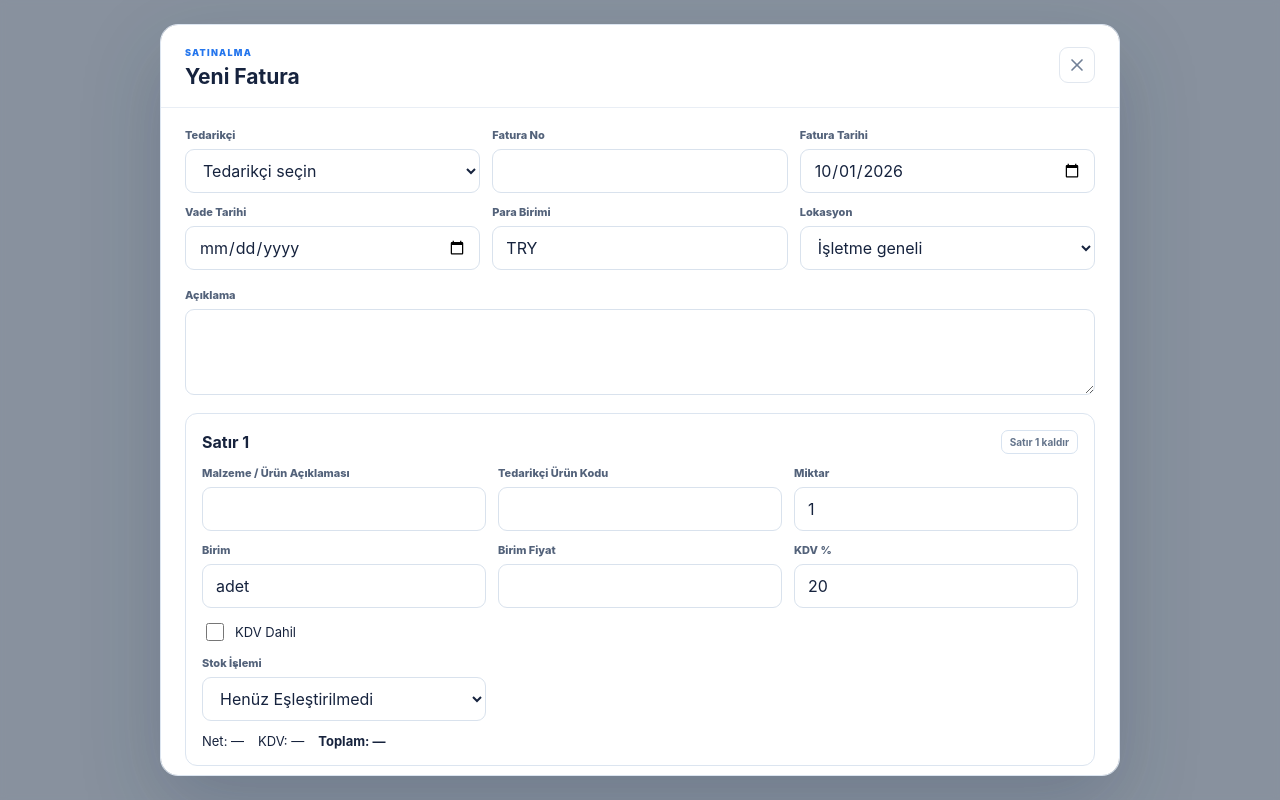
Test case: invoice drafts › rejects due date before invoice date
Step 1. Select "Tedarikçi A" in the dropdown labelled "Tedarikçi" → {"x": 333, "y": 171}, box [185,149,480,193]
Step 2. Type " NEW-1 " into the field labelled "Fatura No" → {"x": 640, "y": 171}, box [492,149,788,193]
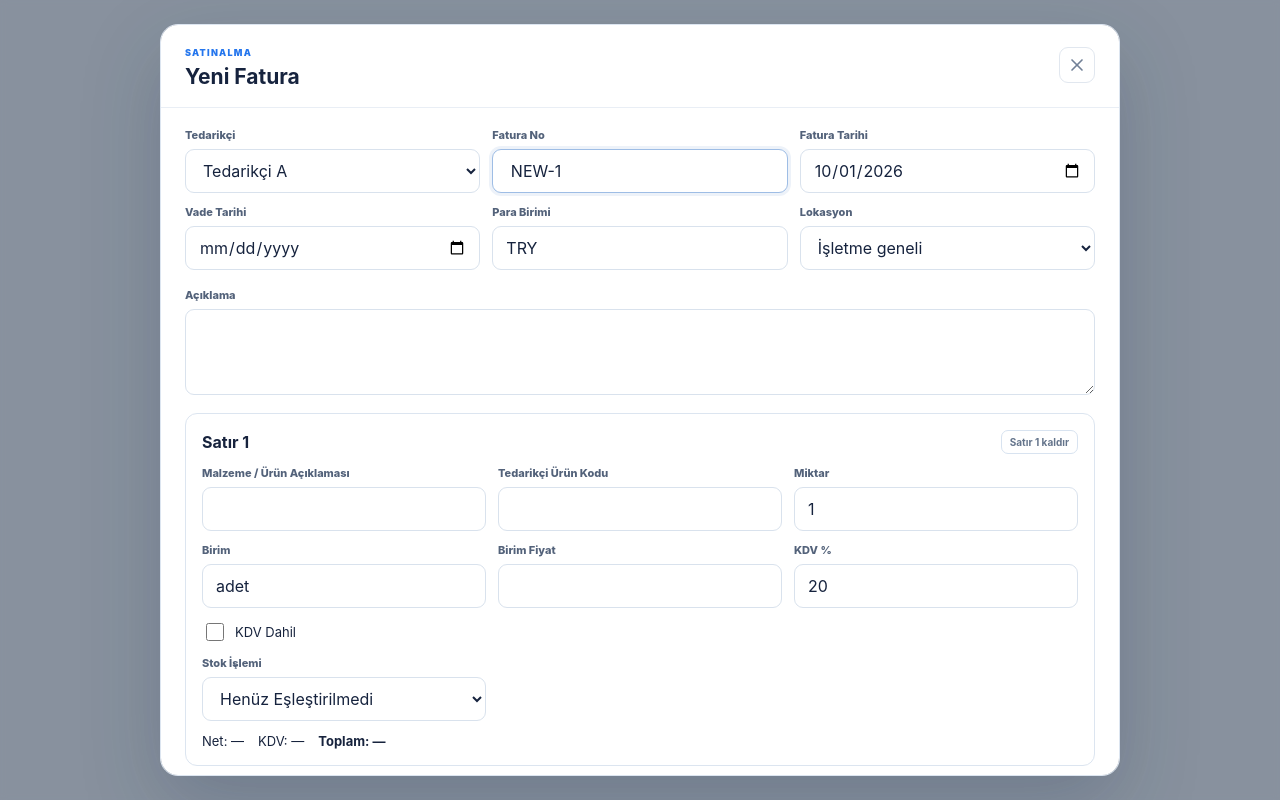
Step 3. Type "2026-09-25" into the date field labelled "Fatura Tarihi" → {"x": 947, "y": 171}, box [800,149,1095,193]
Step 4. Type "Un alımı" into the field named "Malzeme / Ürün Açıklaması 1" → {"x": 344, "y": 509}, box [202,487,486,531]
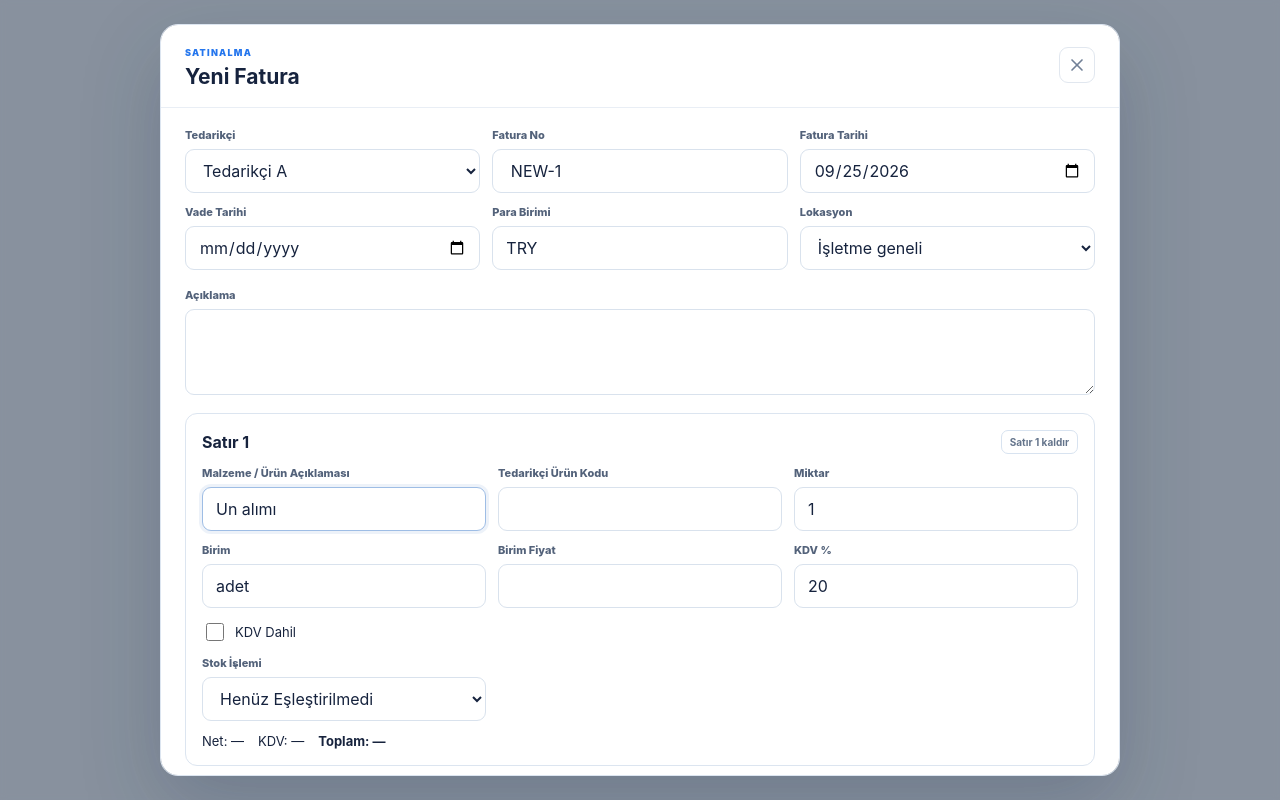
Step 5. Replace the text in the field named "Miktar 1" with "1,2345" → {"x": 936, "y": 509}, box [794,487,1078,531]
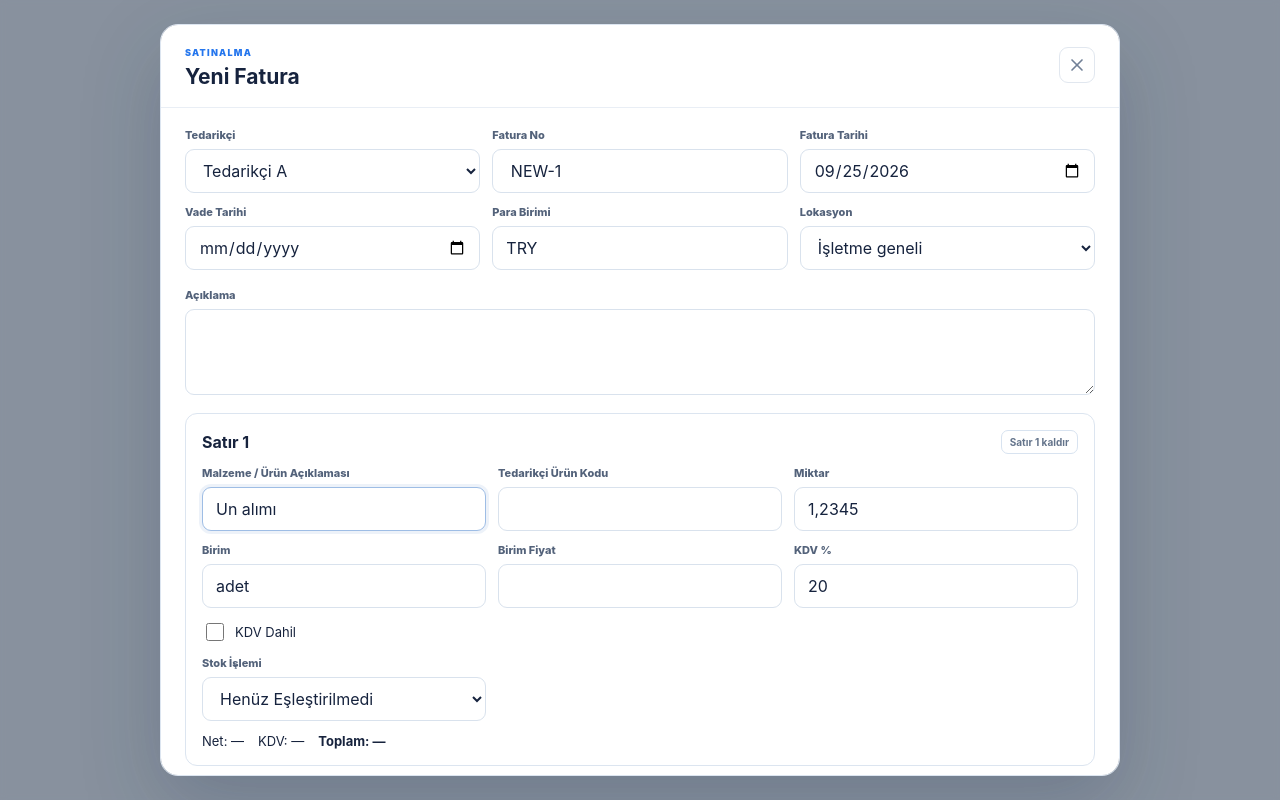
Step 6. Type "10,00" into the field named "Birim Fiyat 1" → {"x": 640, "y": 586}, box [498,564,782,608]
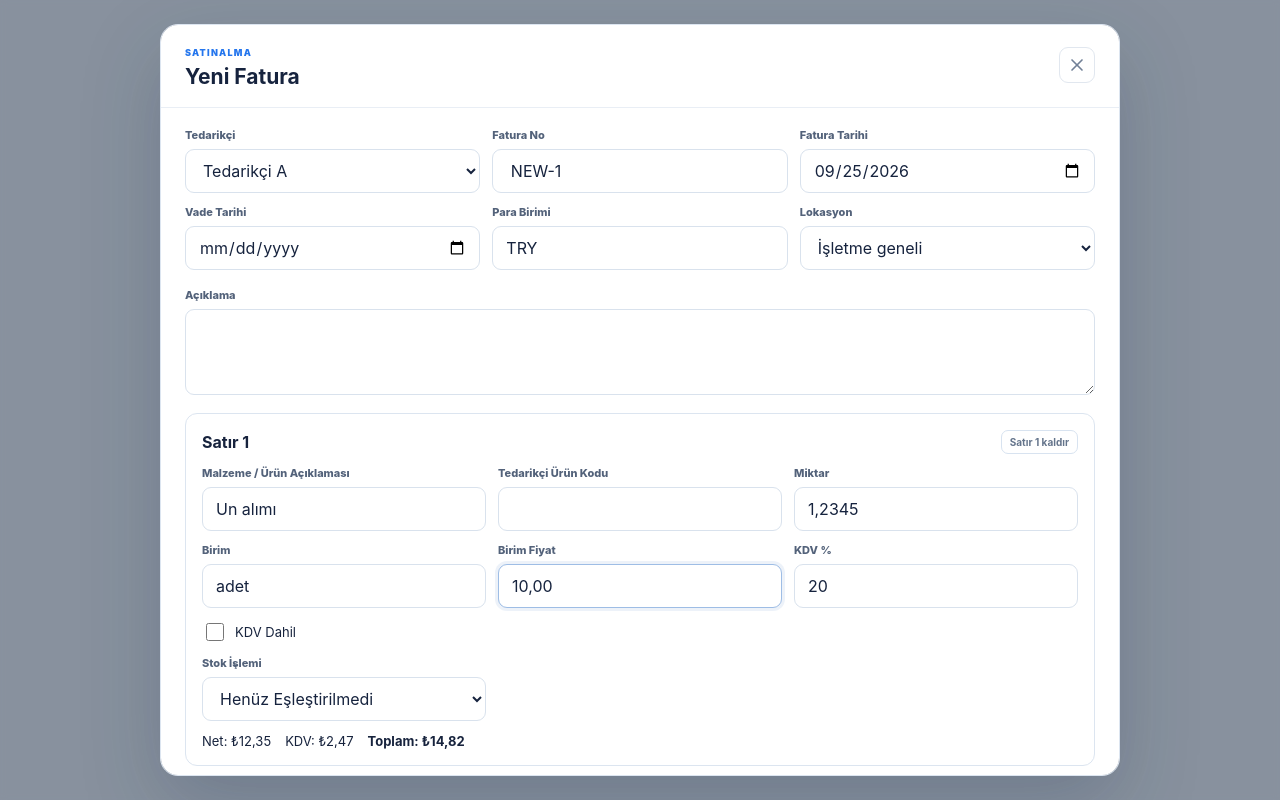
Step 7. Select "Stok Dışı" in the dropdown named "Stok İşlemi 1" → {"x": 344, "y": 699}, box [202,677,486,721]
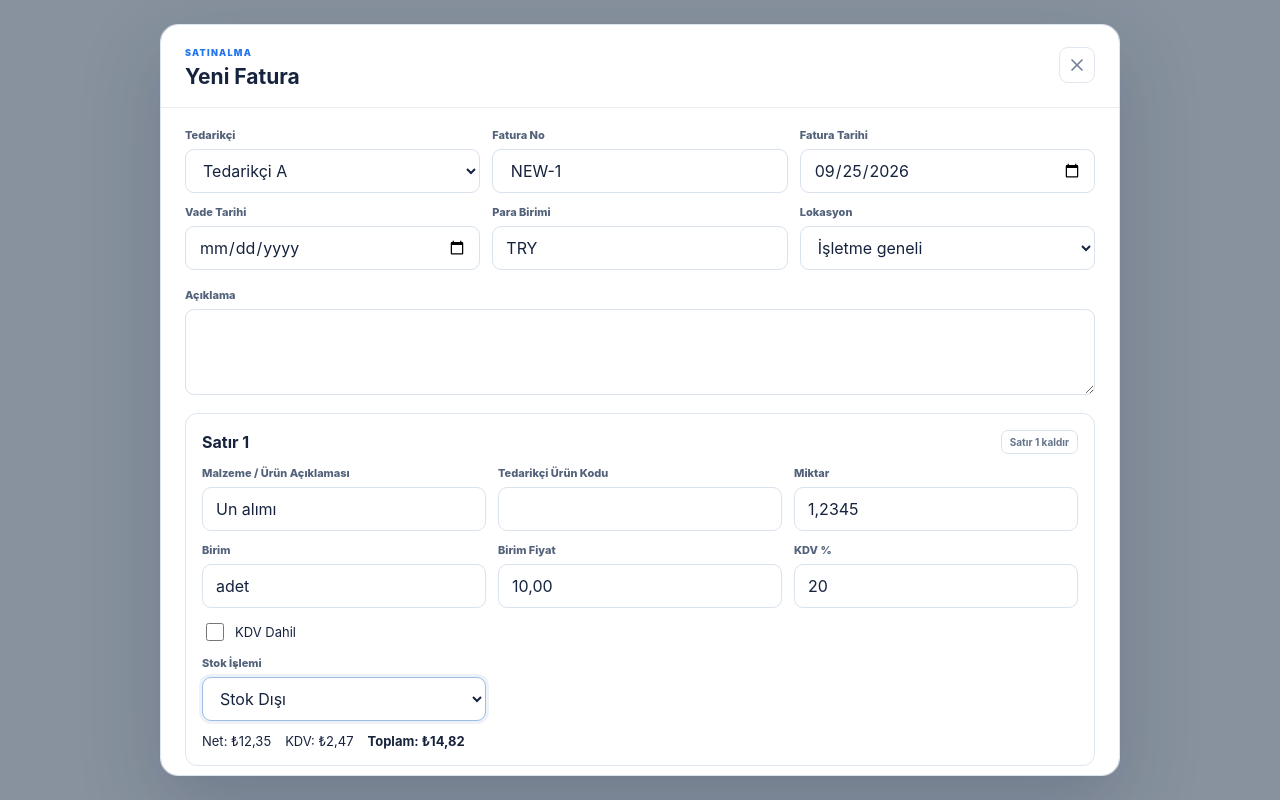
Step 8. Type "2026-09-24" into the date field labelled "Vade Tarihi" → {"x": 333, "y": 248}, box [185,226,480,270]
(page scrolled)
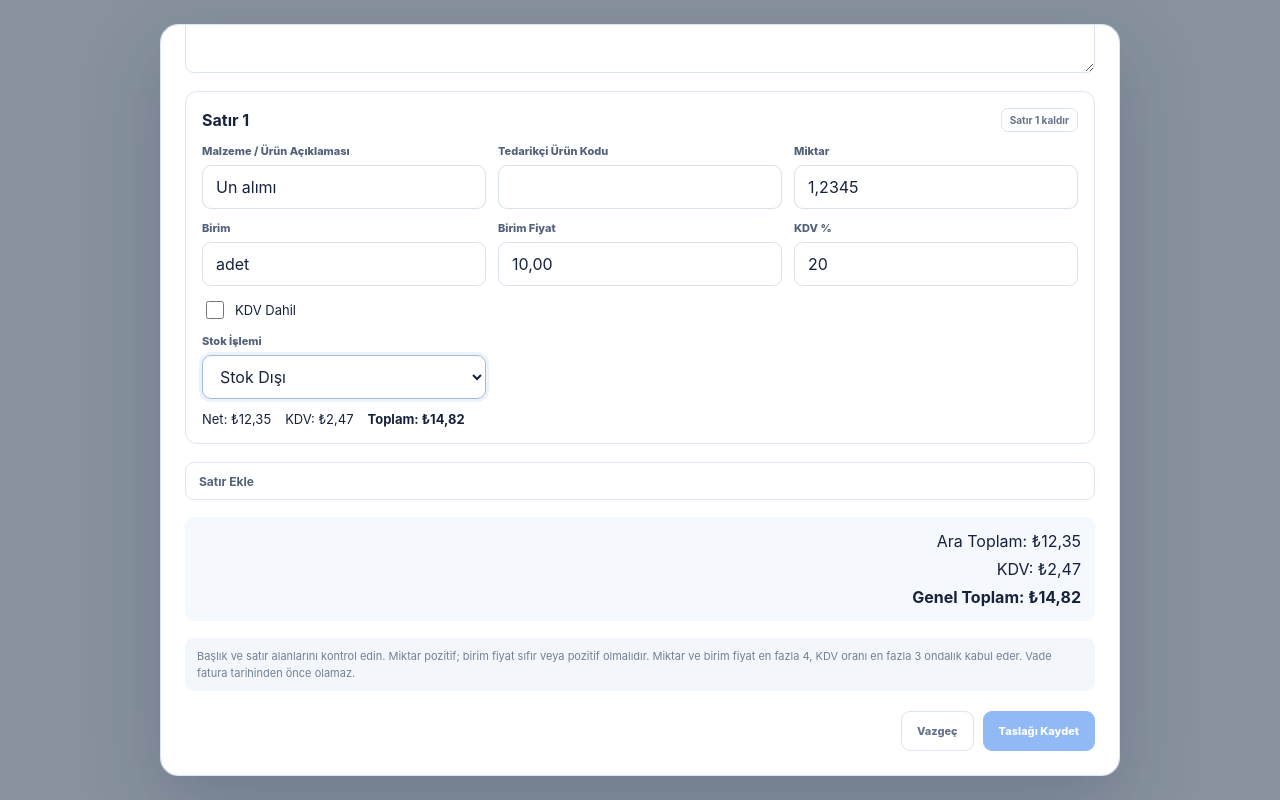
Expected: the button "Taslağı Kaydet" is disabled, [983,711,1095,751]
